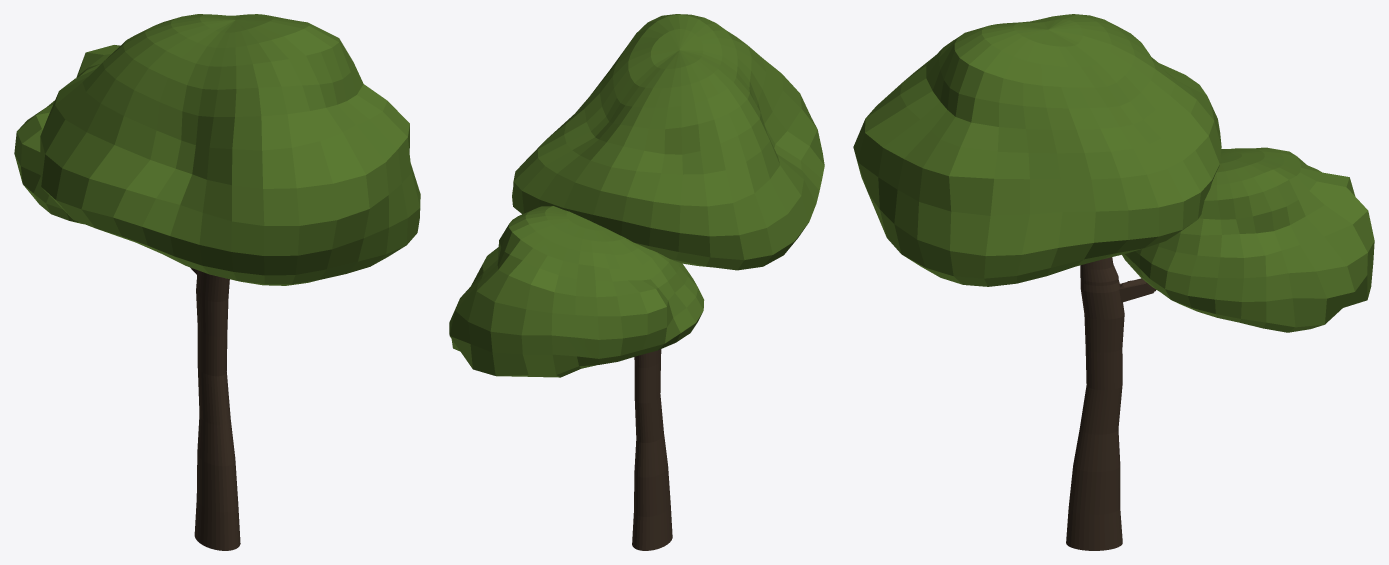
File: Tree2.fbx
3 views of the same model, side by side, from view 1: azimuth 30°, elevation 25°; view 2: azimuth 150°, elevation 25°; view 3: azimuth 270°, elevation 25° (orthographic). The views are drawn at different scales.
Parts seen in each view (by area): view 1: Tree2_LOD0; view 2: Tree2_LOD0; view 3: Tree2_LOD0.
Part boxes in pixels (x1=…): Tree2_LOD0: x1=14, y1=14, x2=420, y2=550; Tree2_LOD0: x1=449, y1=14, x2=824, y2=550; Tree2_LOD0: x1=853, y1=14, x2=1374, y2=550.
Size of what is drawn, in the model's own units: 564 by 964 by 881.
